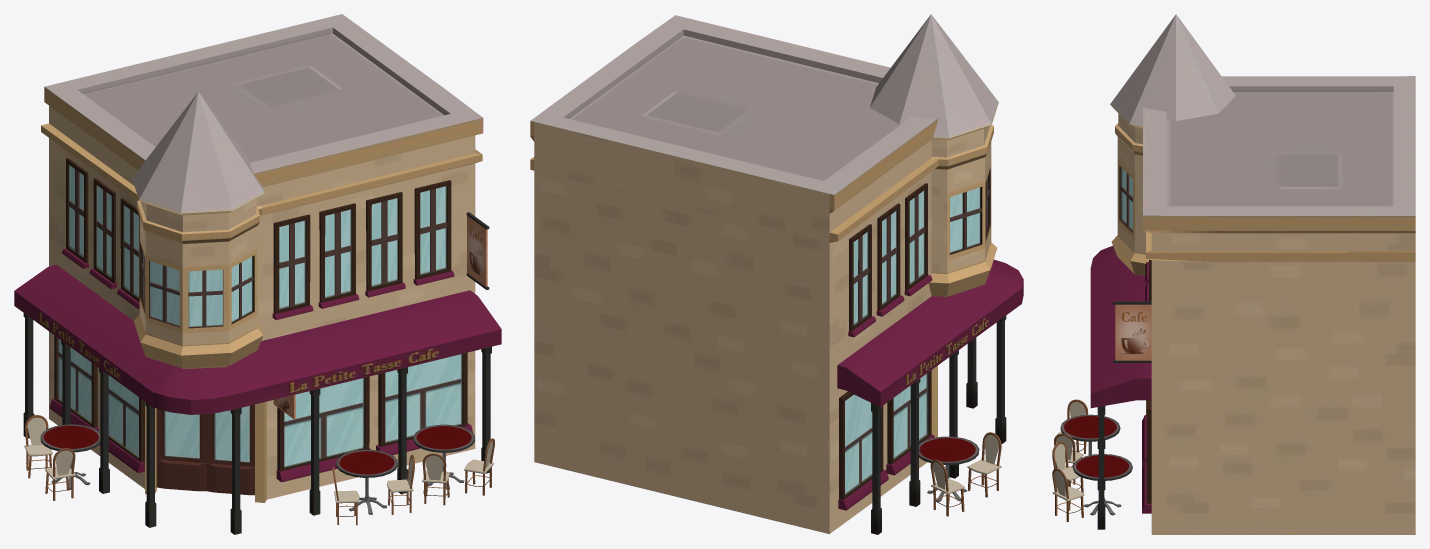
File: french_bistro.glb
3 renders of one model, left to right at view 1: azimuth 30°, elevation 25°; view 2: azimuth 150°, elevation 25°; view 3: azimuth 270°, elevation 25°, orthographic. The views are drawn at different scales.
Visible parts, largest first — view 1: bistro; view 2: bistro; view 3: bistro.
Boxes of the visible parts, x1,y1,x2,y2 form: bistro: (14, 14, 501, 534); bistro: (530, 14, 1023, 534); bistro: (1052, 14, 1415, 534).
Bounding box in the file's own units: 9.89 × 10.37 × 8.6.
Materials: 1 (1 with a texture image).
